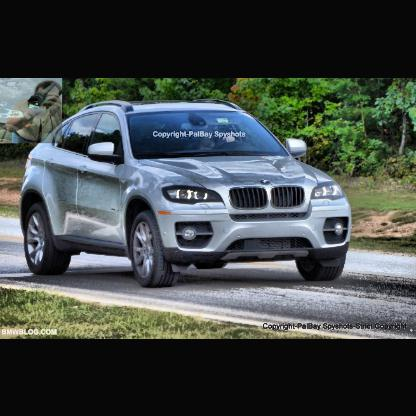BMW X6 SUV 2012: (20, 97, 356, 283)
